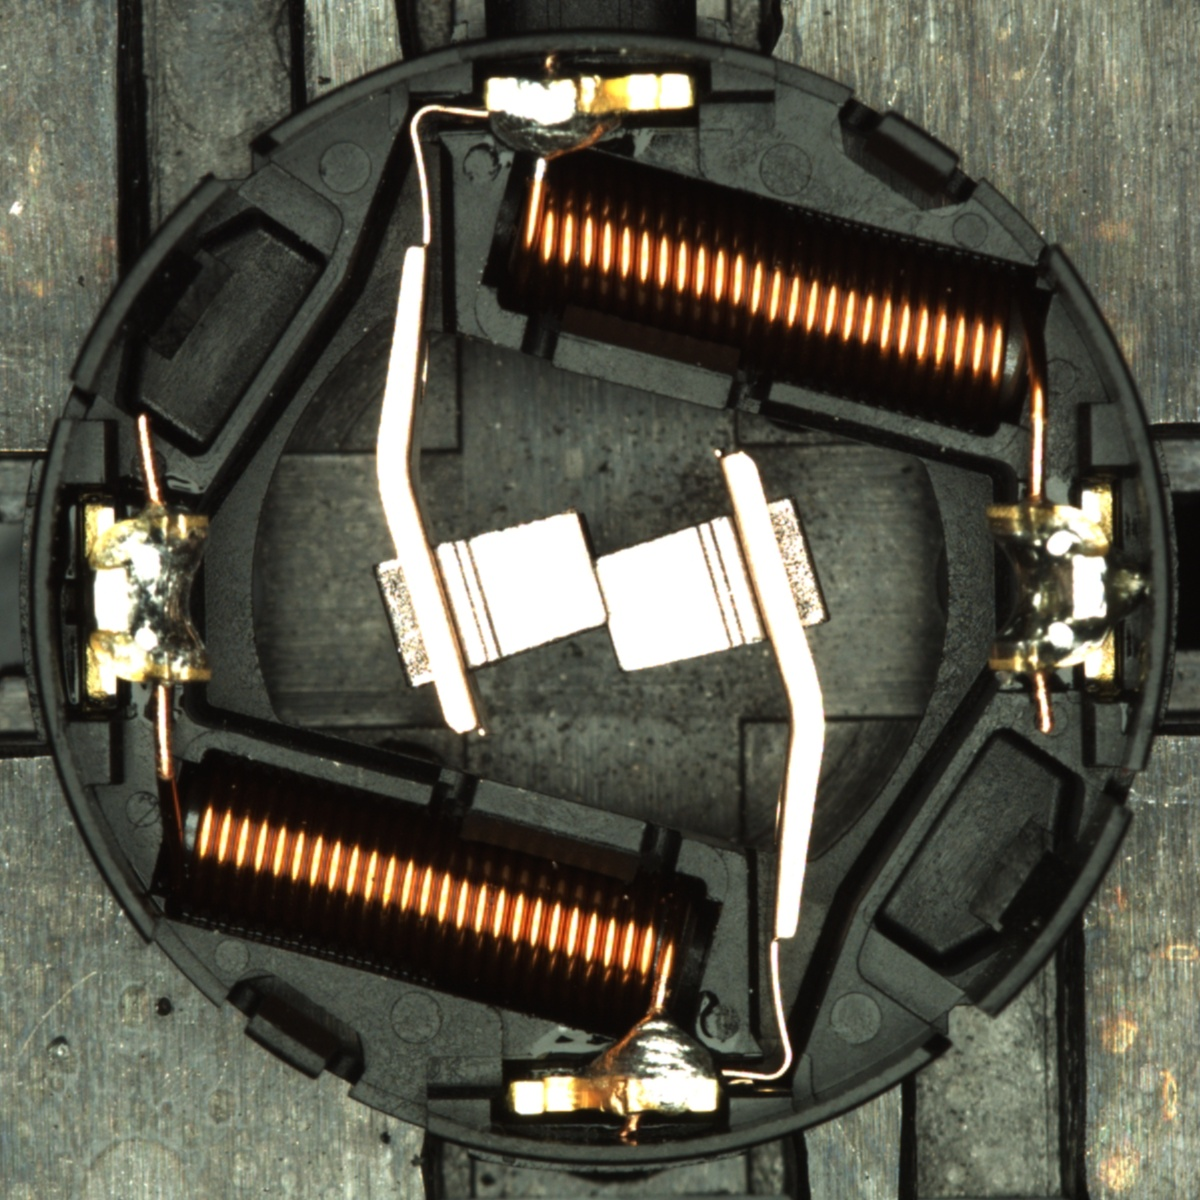1: (253, 30, 482, 255), (711, 927, 941, 1152)
2: (711, 30, 941, 255), (253, 927, 482, 1152)
3: (23, 255, 253, 479), (941, 703, 1169, 927)
4: (253, 255, 482, 479), (711, 703, 941, 927)
5: (482, 142, 711, 367), (482, 815, 711, 1040)
6: (711, 255, 941, 479), (253, 703, 482, 927)
7: (23, 703, 253, 927), (941, 255, 1169, 479)
cacbon: (397, 498, 796, 684)
chau_dien: (77, 499, 218, 698), (980, 486, 1120, 686)
tay_choi: (505, 1015, 722, 1120), (482, 66, 697, 164)
thanh_de: (952, 785, 1138, 1032), (59, 164, 244, 405)
vun_chi: (1108, 558, 1153, 623)
